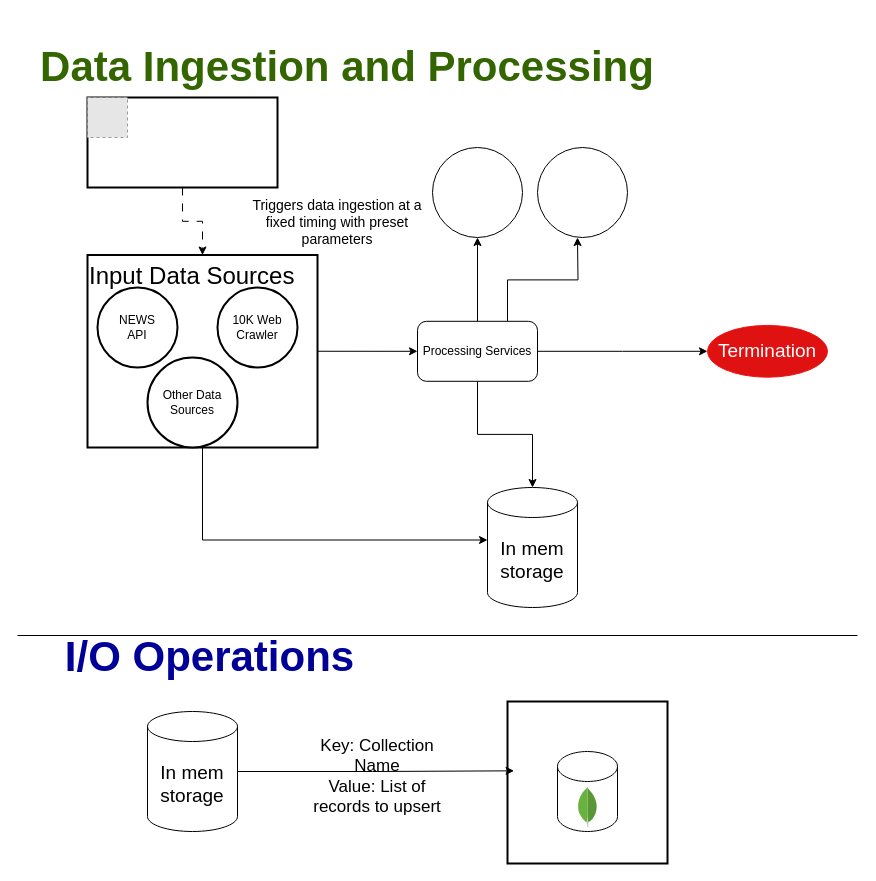
Image size: 876x881. Some labels were removed from this diagram. Grey dashed boxes stand in for pictures. The box of each missing label's shape, as (x1, y1, x2, y2) in pixels:
10K Item Extraction: (536, 146, 628, 238)
Airflow Scheduler: (86, 96, 278, 188)
Data Storage: (506, 700, 668, 864)
News NER & Similarity mapping: (432, 146, 522, 238)
